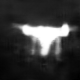plane: (10, 20, 79, 60)
